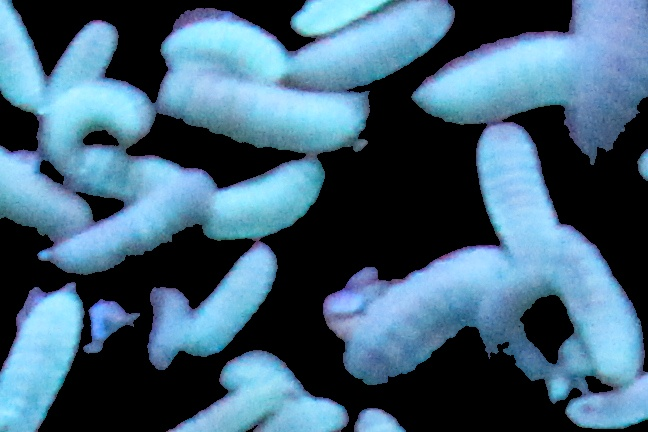larvae: (345, 243, 495, 389), (161, 64, 368, 154), (40, 170, 212, 273), (409, 32, 588, 125), (552, 225, 648, 384), (566, 1, 648, 171), (292, 1, 453, 86), (1, 284, 90, 432), (475, 123, 552, 261), (204, 156, 324, 243), (190, 244, 277, 356), (534, 298, 604, 432), (1, 147, 93, 234), (162, 9, 288, 72), (35, 80, 153, 146), (168, 378, 284, 432), (62, 149, 170, 200), (41, 19, 119, 86), (1, 1, 48, 110), (567, 381, 648, 432), (291, 1, 392, 38)
